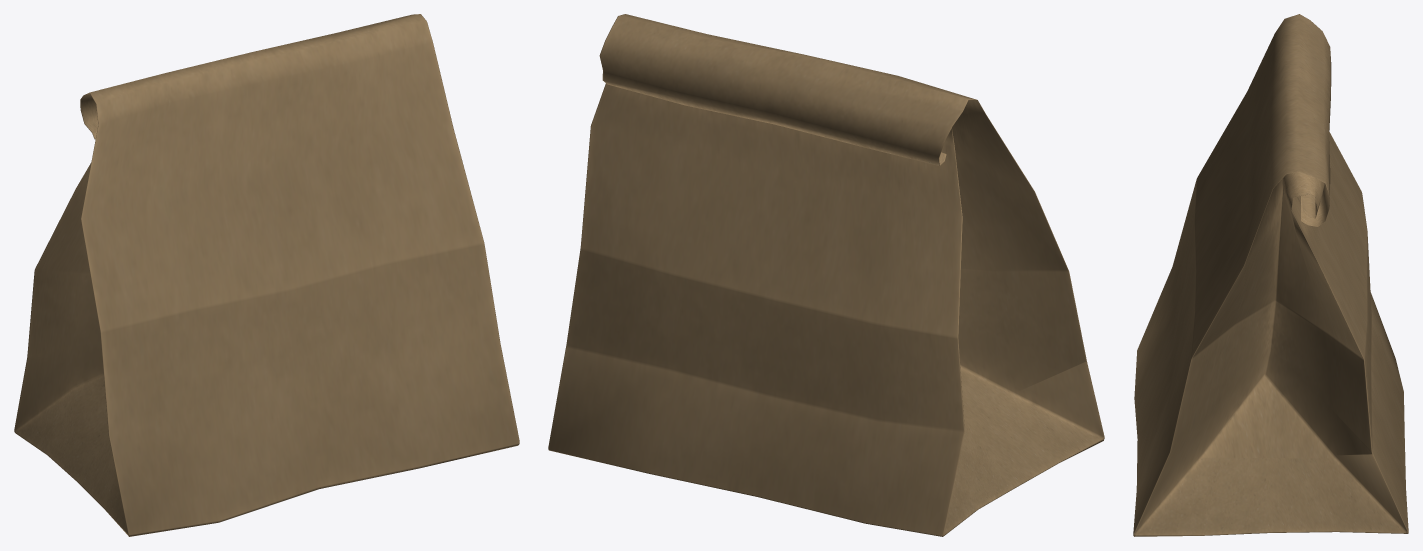
Rendered from paper_bag_sack_lunch.glb.
3 renders of one model, left to right at view 1: azimuth 30°, elevation 25°; view 2: azimuth 150°, elevation 25°; view 3: azimuth 270°, elevation 25°, orthographic. The views are drawn at different scales.
Parts seen in each view (by area): view 1: SackLunch.002; view 2: SackLunch.002; view 3: SackLunch.002.
Boxes of the visible parts, <box> form: SackLunch.002: <box>14,14,519,536</box>; SackLunch.002: <box>548,14,1104,536</box>; SackLunch.002: <box>1133,14,1408,536</box>.
Bounding box in the file's own units: 0.1451 × 0.135 × 0.0917.
Materials: 1 (1 with a texture image).
